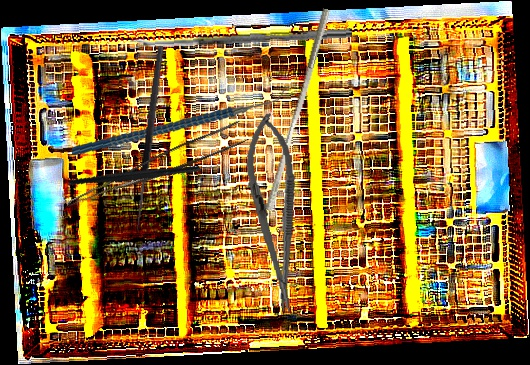Chopper: (71, 66, 287, 173), (68, 121, 226, 221)
Hook Surgical: (133, 45, 174, 234)
Needle Holder: (240, 110, 309, 316)
Pusher: (263, 6, 332, 213)
Surgical Spoon: (129, 27, 353, 49)
Tissue Forceps: (65, 115, 250, 227)
